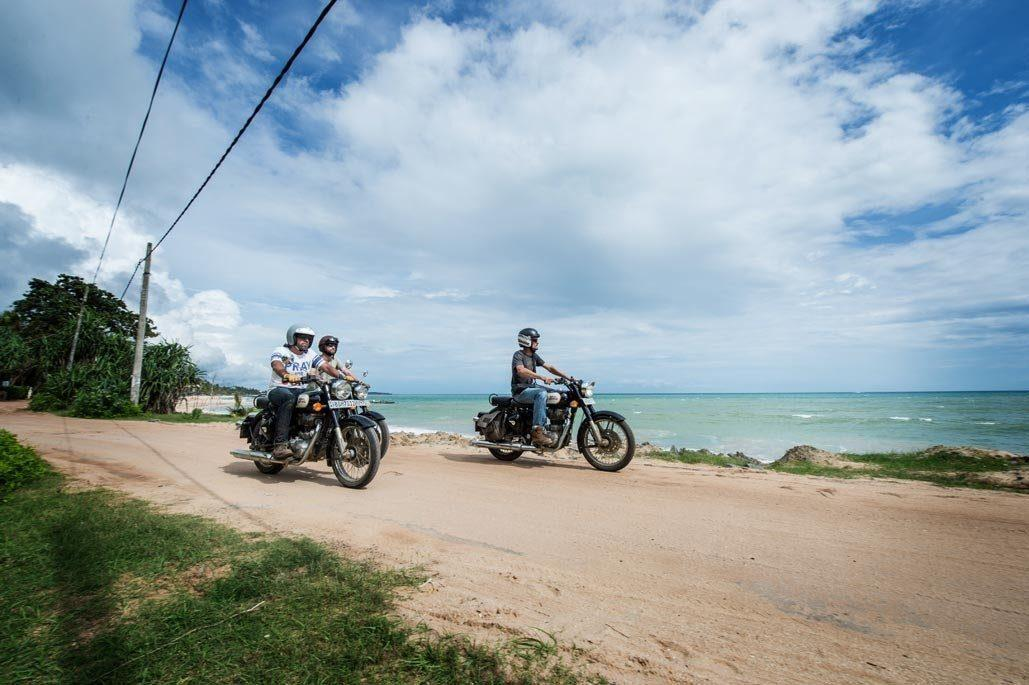motorbike: (228, 353, 381, 489), (470, 376, 637, 472)
